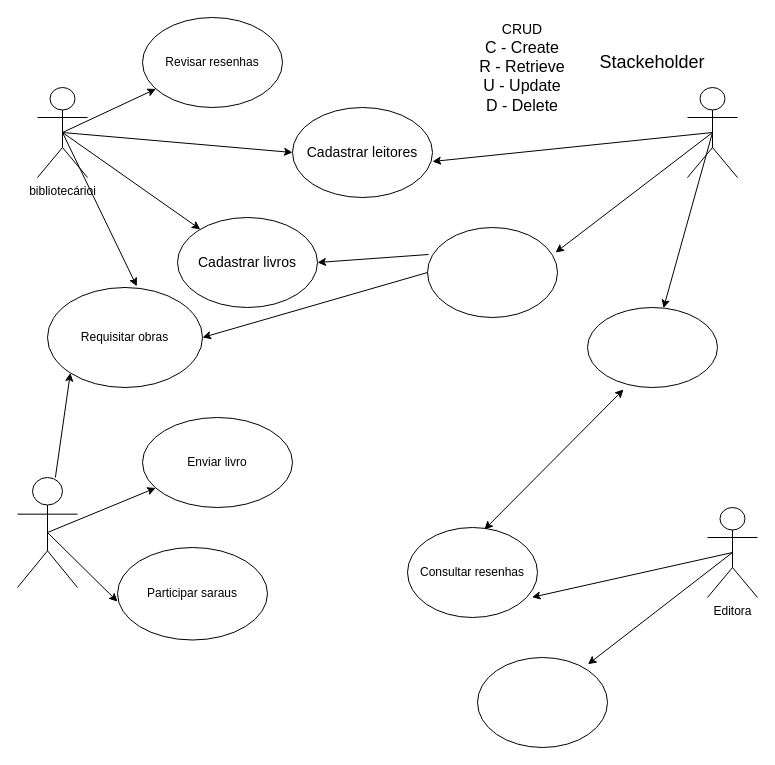
Some shapes in this 775 by 765 pixel diagram are drawn without their labels. Here are the shapes that lost their labels. From the top down, the centre of each, then its label:
point (712, 132): Leitor
point (492, 272): Consultar livros
point (652, 347): Avaliar resenha
point (47, 532): autor
point (542, 702): Publicar obras
